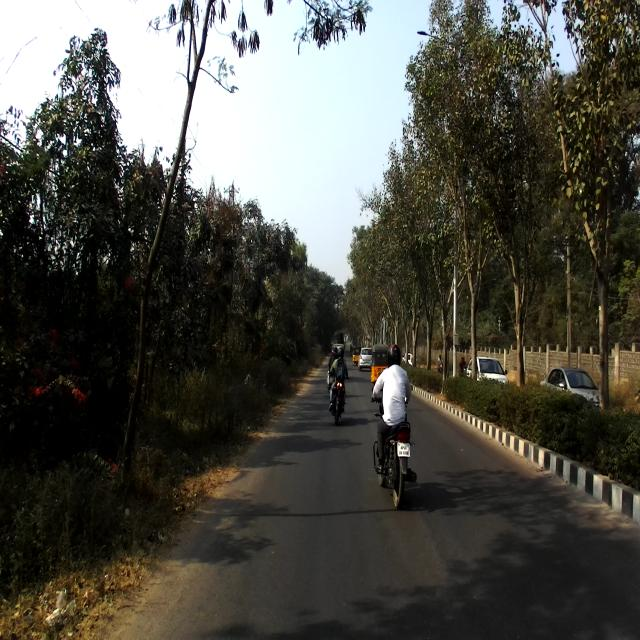motorcycle ahead at: (374, 420, 419, 512)
